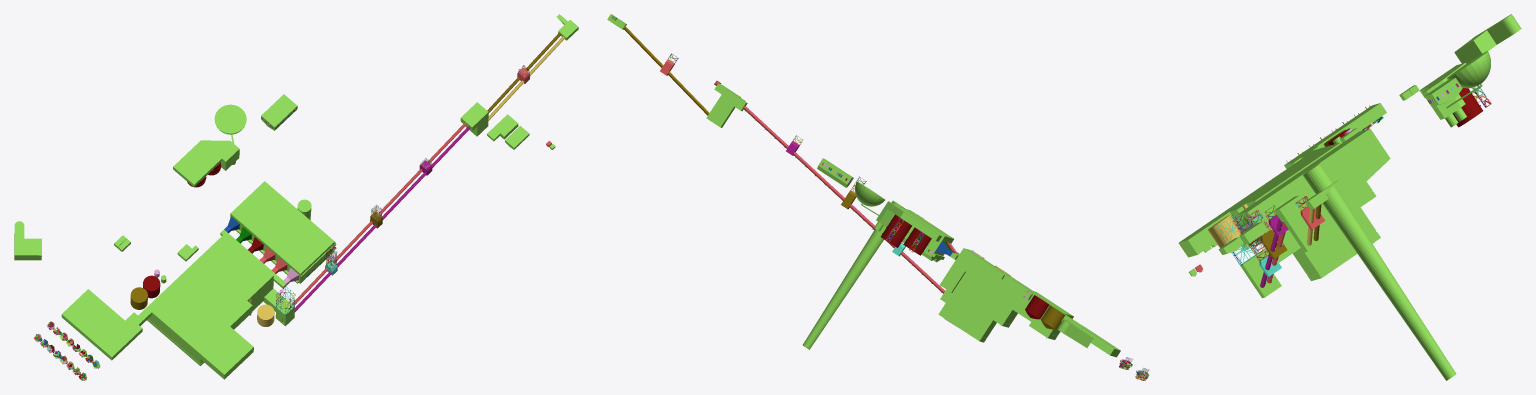
The model's file is 3d-model glb.glb.
The picture shows the model from 3 angles, left to right: view 1: azimuth 30°, elevation 25°; view 2: azimuth 150°, elevation 25°; view 3: azimuth 270°, elevation 25°; orthographic projection. The views are drawn at different scales.
Bounding box in the file's own units: 22.95 × 9.89 × 8.37.
